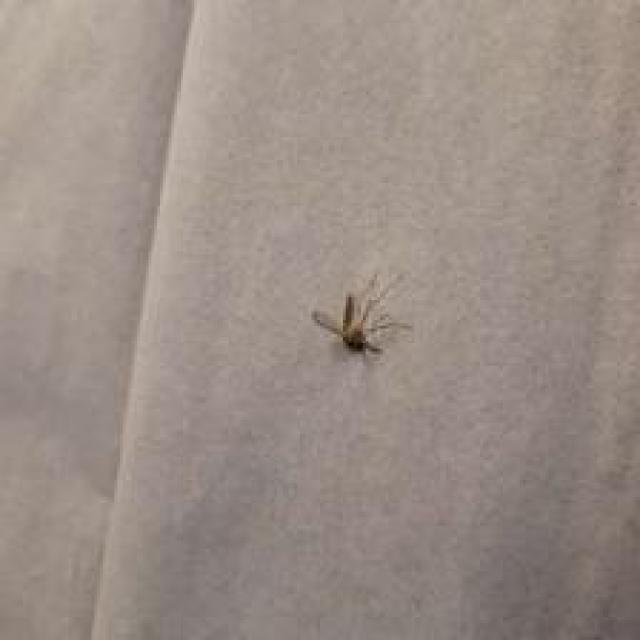Culex: (310, 270, 413, 359)
